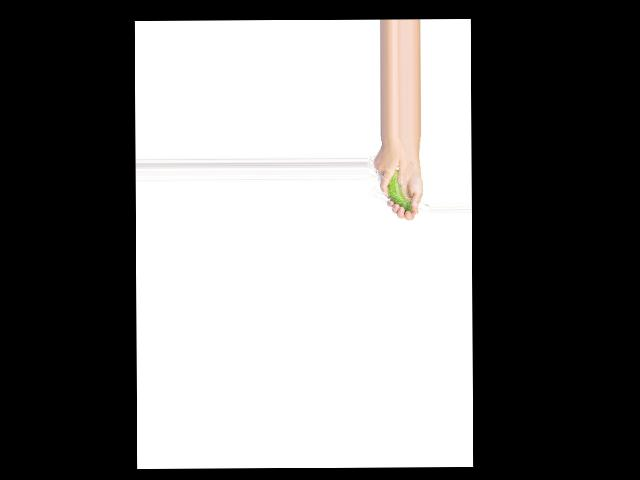cucumber: (387, 169, 412, 212)
